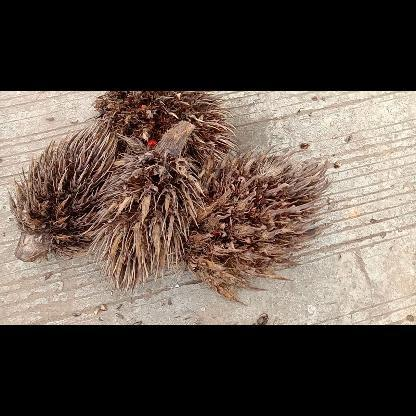Janjang kosong: (186, 144, 332, 306), (92, 121, 206, 285), (7, 118, 117, 262), (94, 91, 236, 163)
